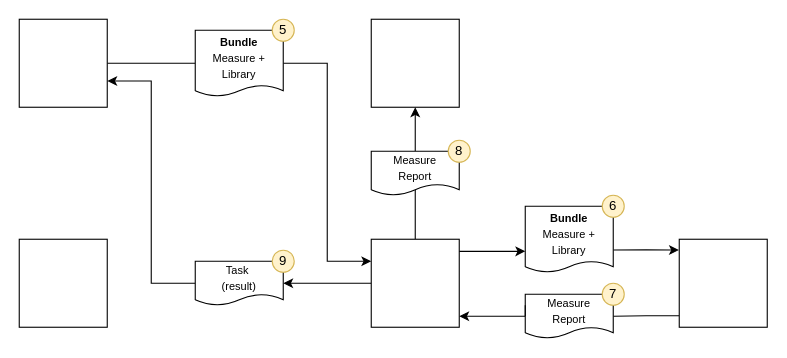
Some shapes in this 787 by 358 pixel diagram are drawn without their labels. The shapes that lost their labels are listed below. From the top down, each one's box as (x1, y1, x2, y2) in pixels, then its label:
(18, 18, 107, 107): HRP FHIR
(370, 18, 459, 107): DIZ FHIR
(18, 238, 107, 327): HRP BPE
(370, 238, 459, 327): DIZ BPE
(678, 238, 767, 327): DIZ FHIR Data
